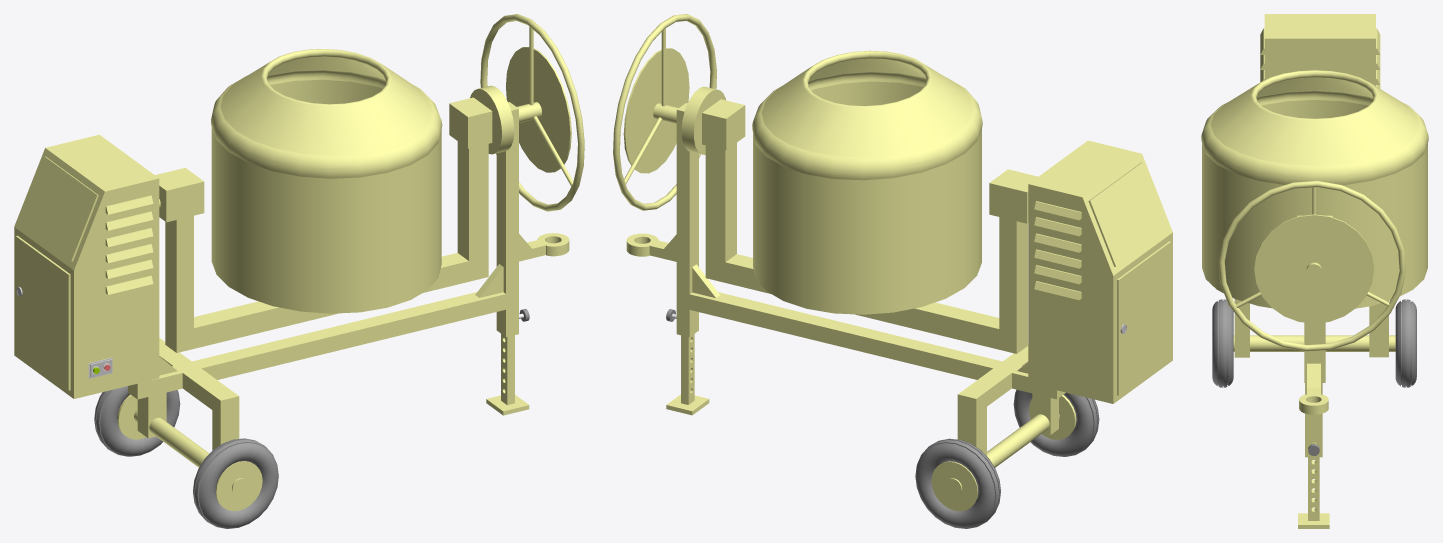
File: cement-mixer.glb
3 views of the same model, side by side, from view 1: azimuth 30°, elevation 25°; view 2: azimuth 150°, elevation 25°; view 3: azimuth 270°, elevation 25° (orthographic). The views are drawn at different scales.
Size of the model in its own units: 1.76 by 1.24 by 0.713.
2 materials, 2 textured.
